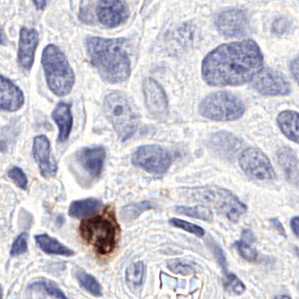Lymphocyte: (80, 207, 121, 255)
